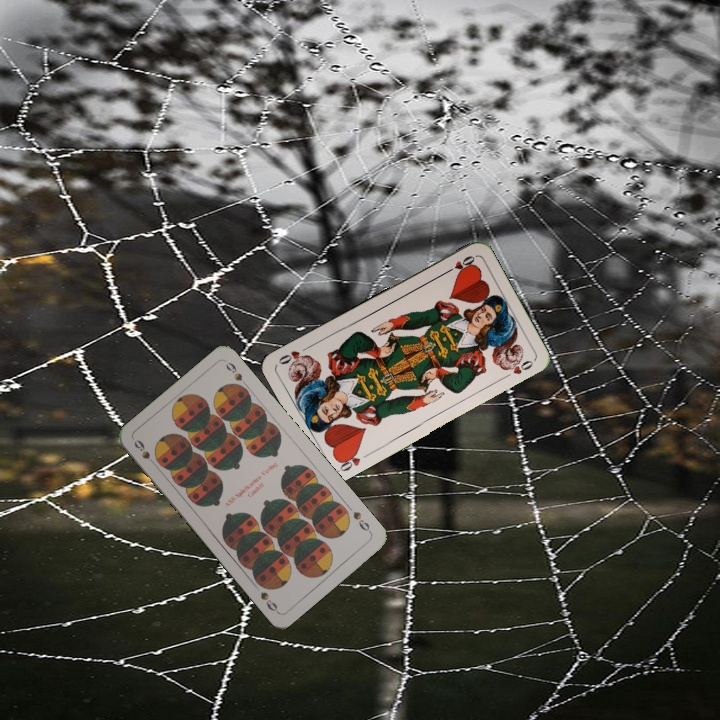HO: (440, 251, 478, 277), (334, 446, 363, 475)
S9: (130, 436, 162, 470), (349, 507, 374, 536)
